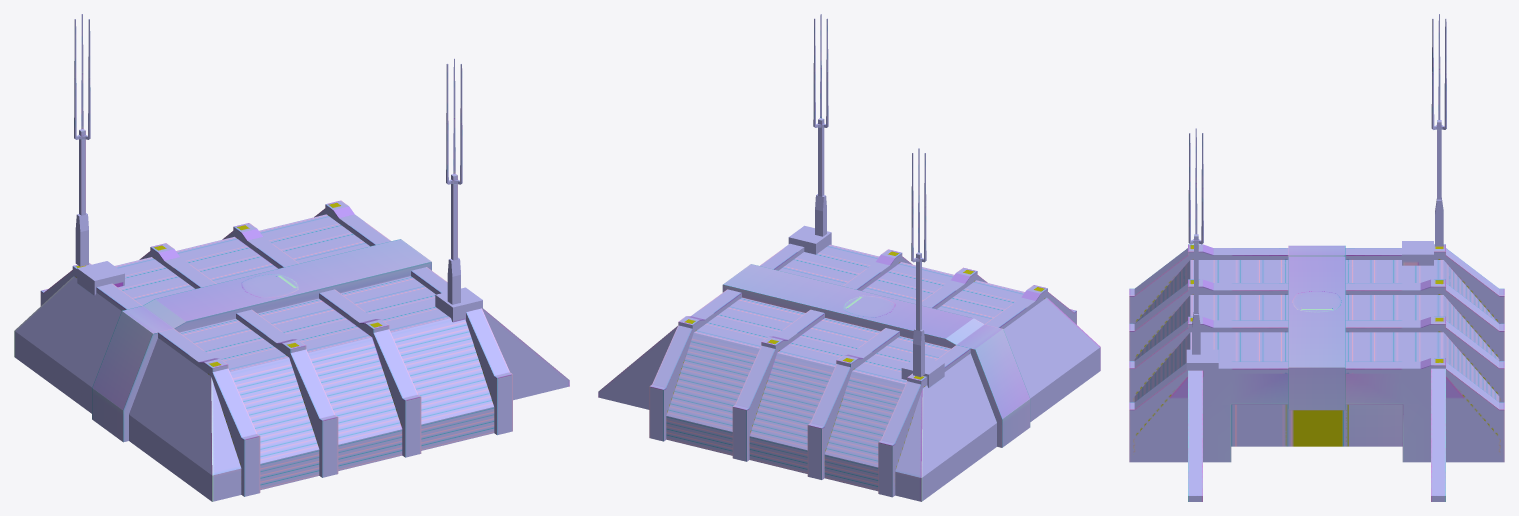
File: Starport_hangar.fbx
3 views of the same model, side by side, from view 1: azimuth 30°, elevation 25°; view 2: azimuth 150°, elevation 25°; view 3: azimuth 270°, elevation 25° (orthographic). The views are drawn at different scales.
Parts seen in each view (by area): view 1: Starport_hangar; view 2: Starport_hangar; view 3: Starport_hangar.
Part boxes in pixels (box(x1,y1,x2,y2)): Starport_hangar: box(14, 14, 569, 501); Starport_hangar: box(598, 14, 1100, 501); Starport_hangar: box(1129, 14, 1504, 501).
Size of the model in its own units: 283 by 245 by 255.
